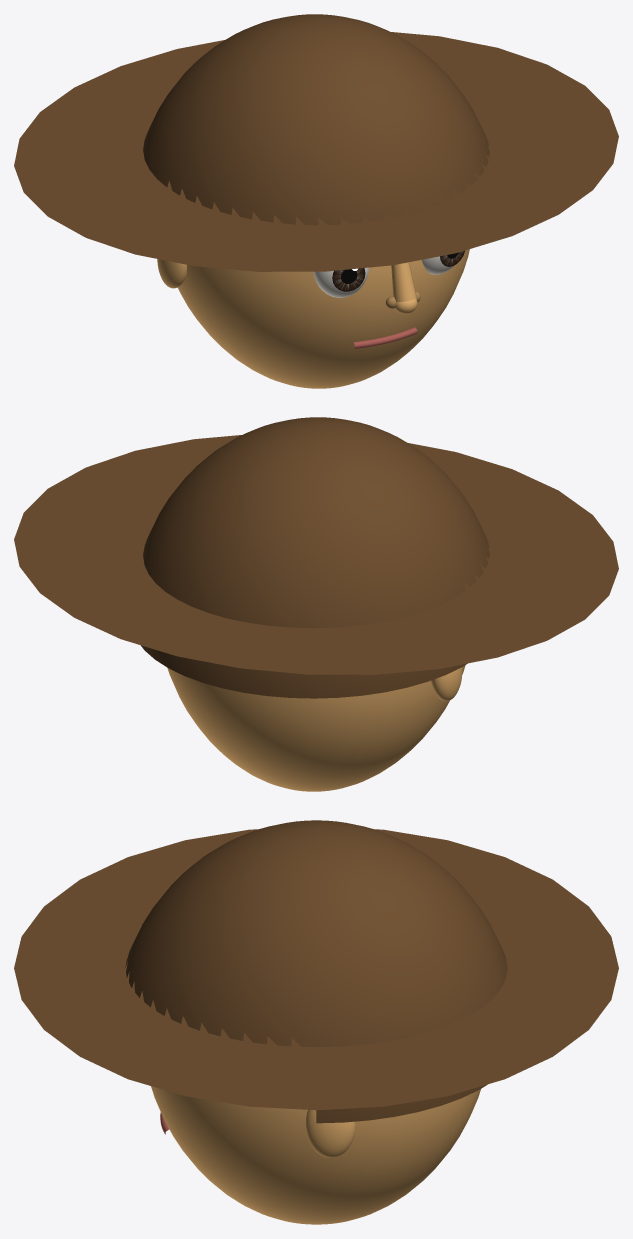
Rendered from 12-chapeau-de-cowboy.glb.
3 views of the same model, one above another, from view 1: azimuth 30°, elevation 25°; view 2: azimuth 150°, elevation 25°; view 3: azimuth 270°, elevation 25° (orthographic). The views are drawn at different scales.
Bounding box in the file's own units: 0.5607 × 0.346 × 0.5046.
11 materials, 1 textured.
